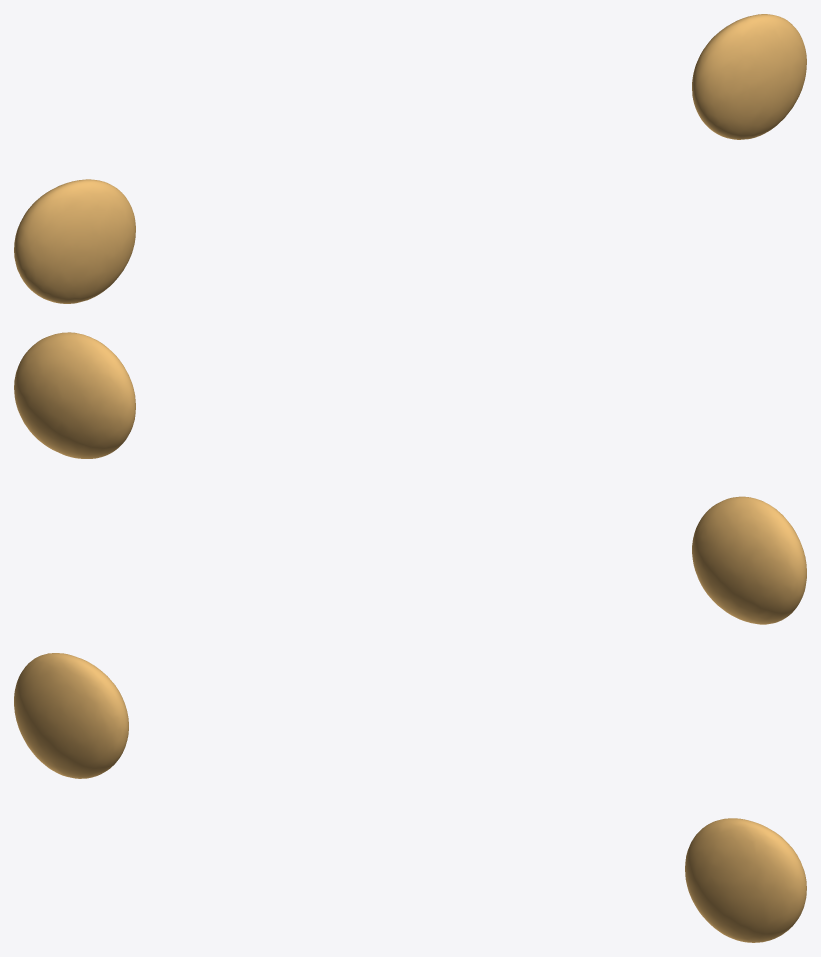
Rendered from cristalino.glb.
3 views of the same model, one above another, from view 1: azimuth 30°, elevation 25°; view 2: azimuth 150°, elevation 25°; view 3: azimuth 330°, elevation 25° (orthographic).
Visible parts, largest first — view 1: cristalino; view 2: cristalino; view 3: cristalino.
Boxes of the visible parts, x1=… form: cristalino: x1=14, y1=14, x2=806, y2=303; cristalino: x1=14, y1=332, x2=806, y2=624; cristalino: x1=14, y1=653, x2=806, y2=942.
Size of the model in its own units: 0.0709 by 0.0105 by 0.00477.
